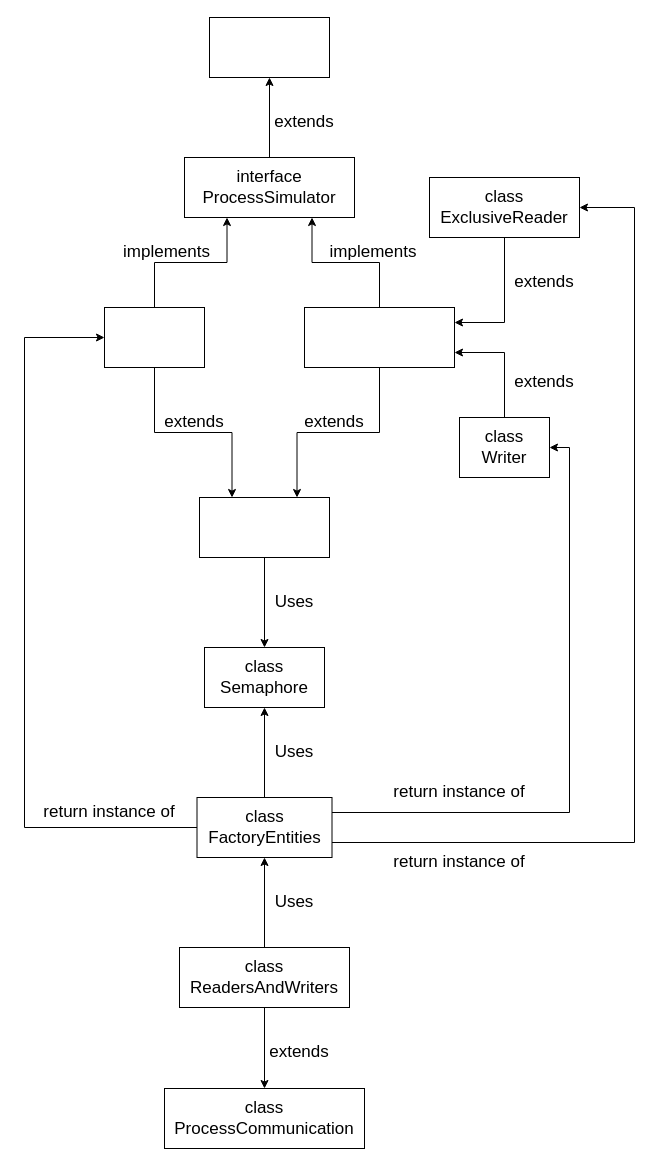
Image size: 660x1166. Some labels were removed from this diagram. The centre of each missing label's shape, as x and y in pixels:
abstract class Entity: point 264,527
abstract class ExclusiveEntity: point 379,337
class Reader: point 154,337
interface Runnable: point 269,47
